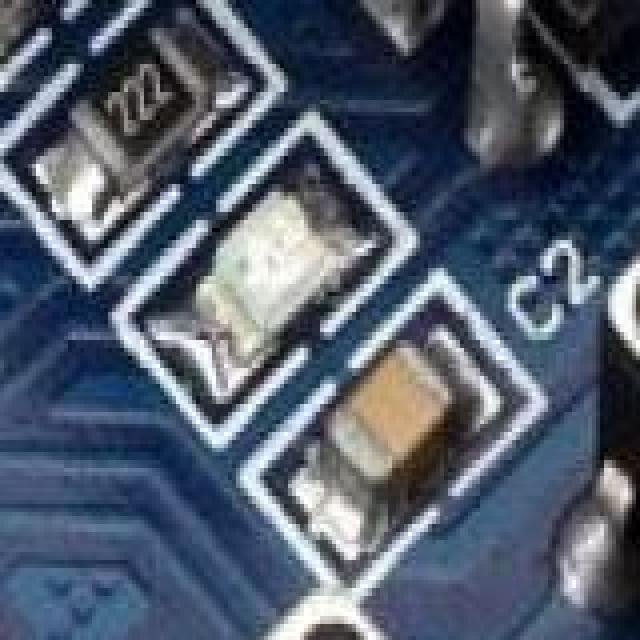LED: (204, 156, 348, 346)
capacitor: (312, 340, 488, 530)
resistor: (72, 8, 214, 198)
switch: (608, 40, 640, 640), (68, 608, 588, 640)
